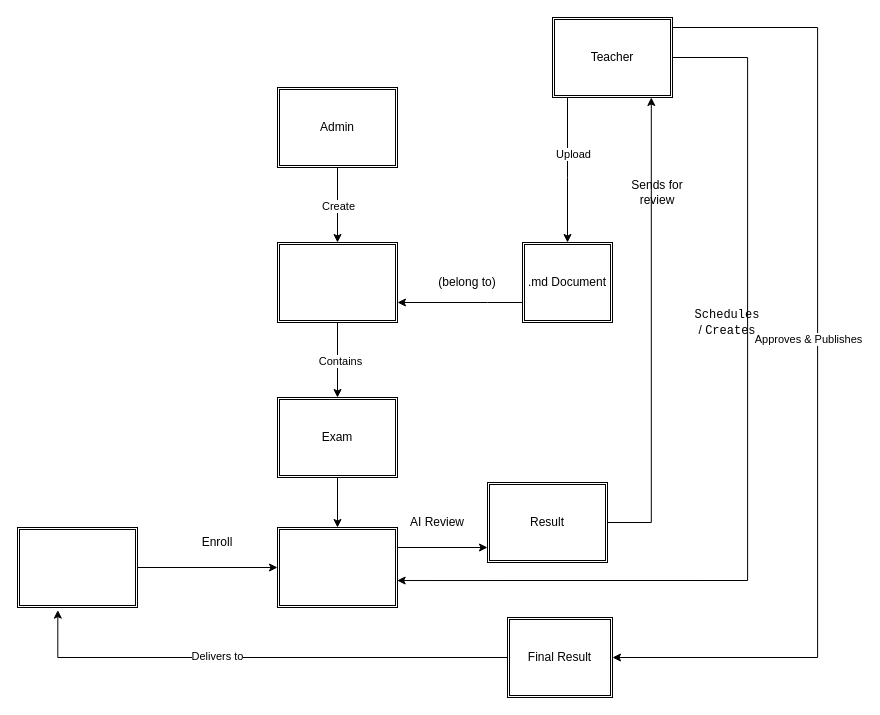
Some shapes in this 880 by 715 pixel diagram are drawn without their labels. The box of each missing label's shape, as (x1, y1, x2, y2) in pixels:
Course: (276, 242, 398, 322)
Exam Session: (276, 526, 398, 608)
Student: (16, 526, 138, 608)
